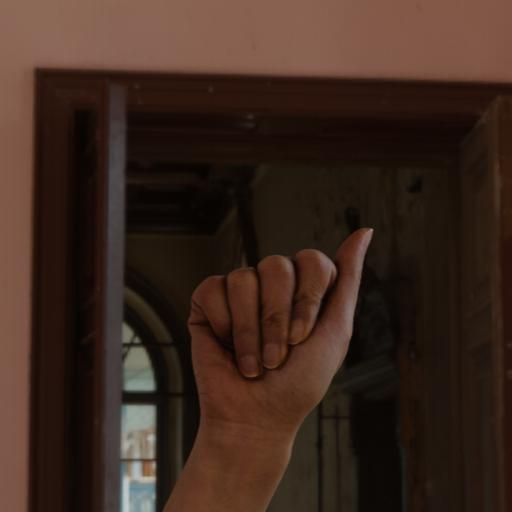A: (174, 222, 386, 460)
